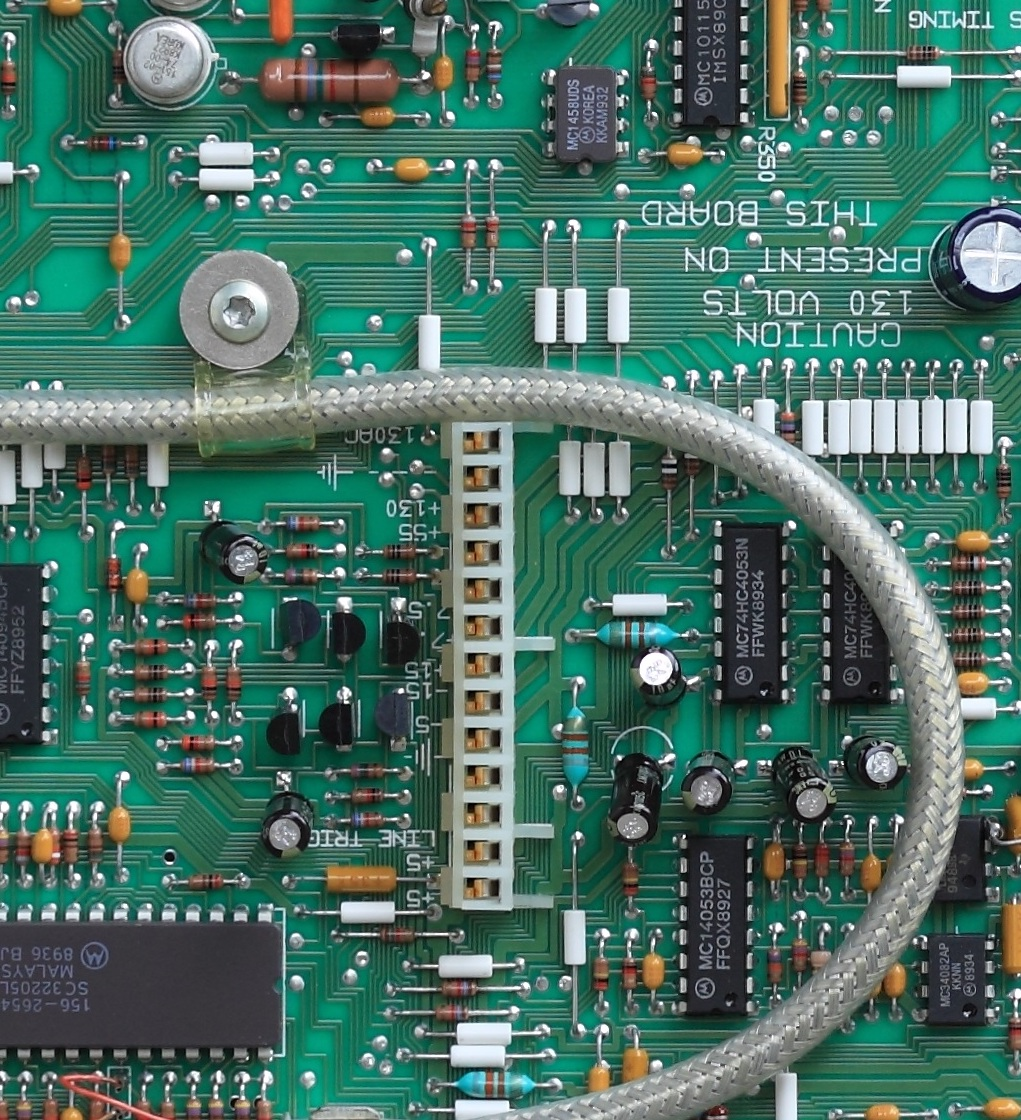Capacitor: (923, 201, 1021, 316), (602, 743, 672, 848), (767, 742, 839, 826), (195, 516, 273, 590), (256, 789, 321, 864), (842, 729, 912, 796), (678, 748, 739, 820), (625, 644, 690, 711)
Diode: (104, 548, 123, 601)
Resistor: (249, 52, 405, 108), (556, 701, 593, 794), (590, 617, 683, 652), (444, 1068, 547, 1099), (274, 509, 329, 535), (428, 978, 488, 1001), (369, 923, 424, 948), (656, 445, 681, 499), (197, 657, 222, 709), (943, 648, 994, 673), (127, 707, 176, 732), (426, 1001, 477, 1025), (762, 940, 785, 993), (122, 635, 176, 657), (71, 651, 95, 700), (222, 657, 246, 706), (343, 808, 390, 833), (274, 539, 325, 562), (590, 949, 612, 1002), (941, 577, 994, 599), (126, 662, 174, 686), (125, 684, 175, 707), (183, 868, 229, 893), (787, 930, 810, 980), (788, 63, 810, 115), (174, 730, 223, 753), (617, 950, 640, 999), (619, 856, 642, 905), (898, 41, 949, 63), (788, 835, 810, 886), (84, 823, 107, 870), (59, 823, 82, 870), (635, 60, 659, 105), (173, 755, 222, 777), (462, 41, 483, 92), (808, 940, 834, 981), (481, 208, 503, 256), (344, 784, 392, 806), (944, 600, 992, 622), (73, 449, 95, 496), (991, 458, 1014, 502), (177, 611, 223, 633), (177, 589, 223, 611), (377, 566, 421, 589), (13, 822, 33, 872), (942, 626, 992, 646), (279, 565, 322, 588), (342, 761, 389, 782), (940, 554, 994, 572), (108, 45, 130, 89), (458, 209, 478, 257), (811, 836, 831, 884), (836, 836, 858, 879), (96, 438, 119, 479), (121, 443, 144, 482), (779, 404, 798, 451), (378, 541, 422, 561), (81, 134, 127, 153), (484, 43, 503, 89), (1, 52, 18, 101), (1005, 1009, 1020, 1062), (681, 444, 703, 479), (47, 821, 61, 869), (1, 818, 12, 872)
